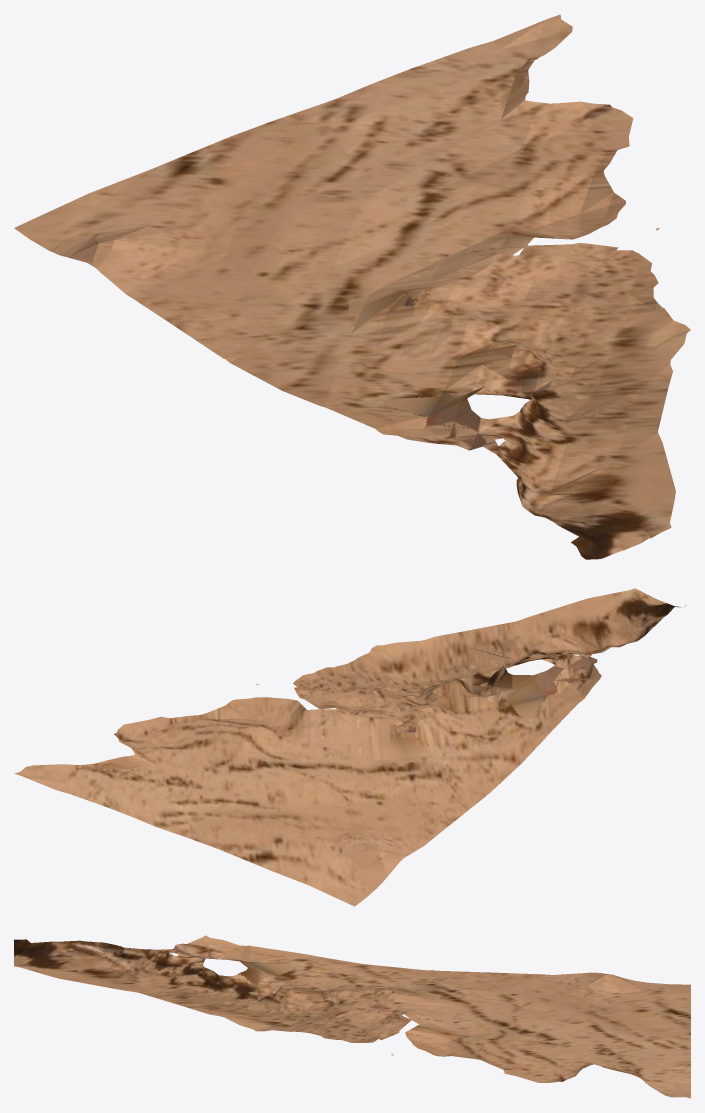
3 renders of one model, top to bottom at view 1: azimuth 30°, elevation 25°; view 2: azimuth 150°, elevation 25°; view 3: azimuth 270°, elevation 25°, orthographic. The views are drawn at different scales.
Size of the model in its own units: 0.5954 by 0.0836 by 1.04.
1 material, 1 textured.
